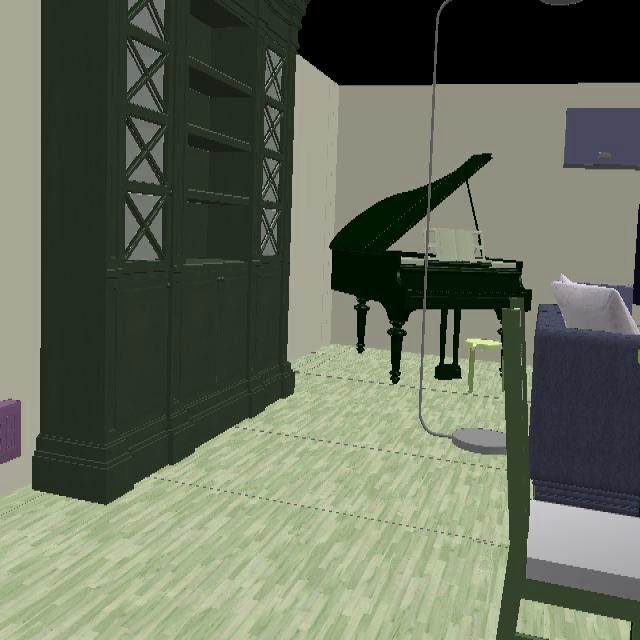bookshelf: (32, 0, 310, 505)
cabinet: (565, 108, 640, 173)
chair: (497, 308, 640, 640)
pillow: (551, 273, 640, 336)
sofa: (530, 304, 640, 513)
